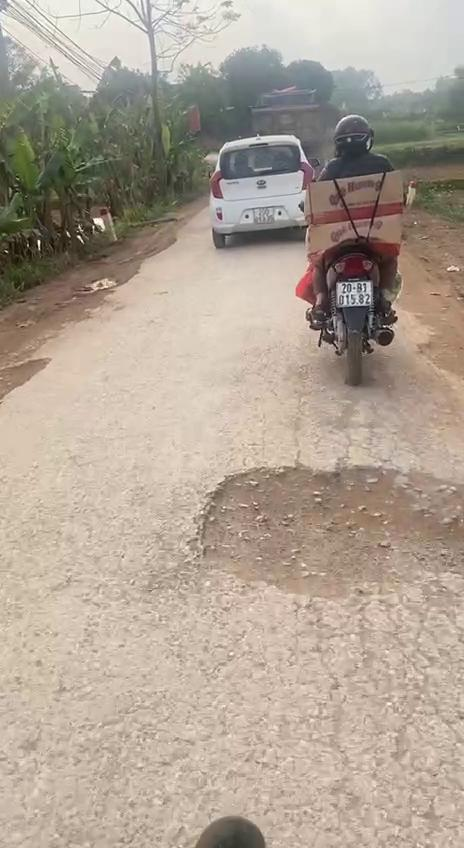pothole: (181, 454, 464, 610), (0, 357, 56, 412)
